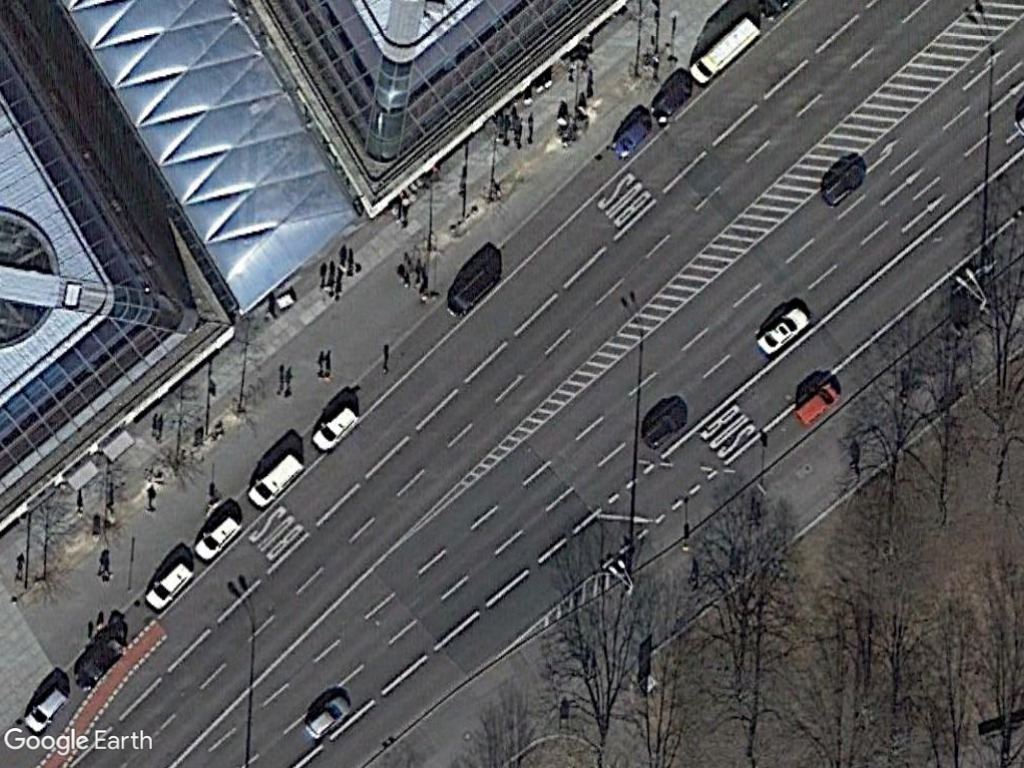car: (750, 304, 816, 358), (308, 400, 367, 455), (299, 689, 355, 742), (607, 114, 657, 161)
van: (686, 9, 768, 90), (245, 449, 308, 515), (442, 258, 504, 322), (142, 556, 198, 613), (195, 510, 248, 566), (24, 680, 72, 736), (792, 380, 843, 432)
